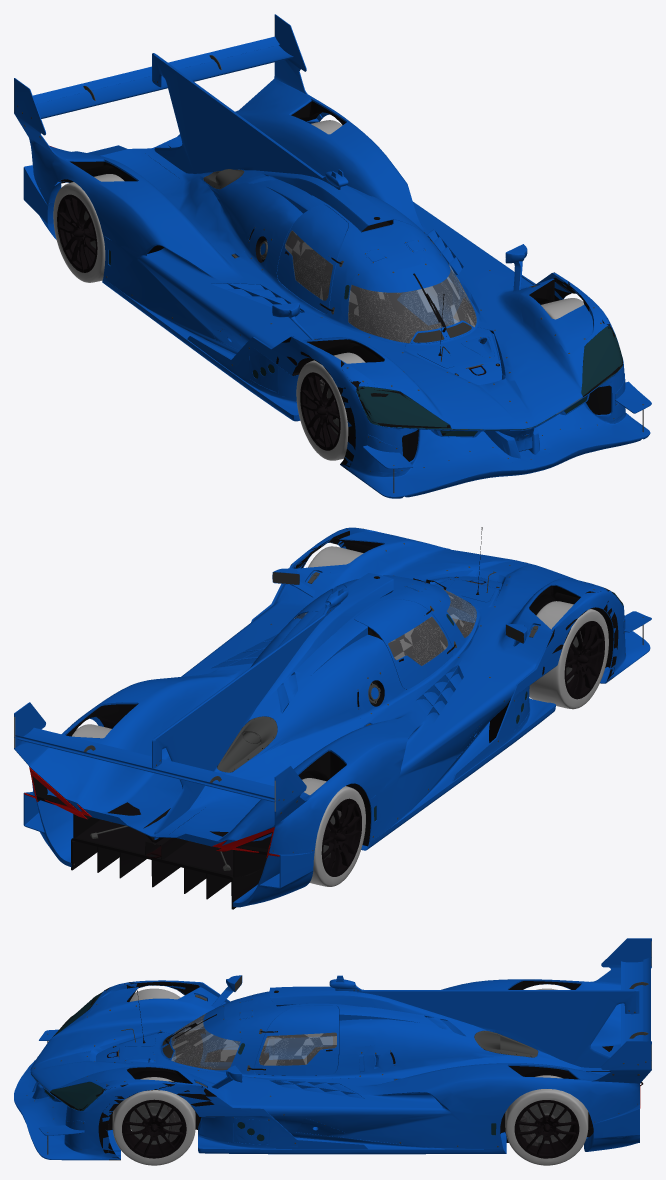
File: alpine-a424.obj
3 renders of one model, top to bottom at view 1: azimuth 30°, elevation 25°; view 2: azimuth 150°, elevation 25°; view 3: azimuth 270°, elevation 25°, orthographic. The views are drawn at different scales.
Visible parts, largest first — view 1: BODY, GLASS, WHEEL_RR, WHEEL_RF; view 2: BODY, WHEEL_RF, WHEEL_RR, GLASS, WHEEL_LF; view 3: BODY, GLASS, WHEEL_LR, WHEEL_LF, WHEEL_RF.
Part boxes in pixels (left/top/right/bottom): BODY: left=14, top=14, right=651, bottom=498; GLASS: left=14, top=18, right=623, bottom=436; WHEEL_RR: left=53, top=174, right=124, bottom=282; WHEEL_RF: left=296, top=352, right=365, bottom=460; BODY: left=14, top=527, right=651, bottom=909; WHEEL_RF: left=529, top=601, right=608, bottom=709; WHEEL_RR: left=302, top=778, right=365, bottom=886; GLASS: left=14, top=588, right=623, bottom=821; WHEEL_LF: left=308, top=546, right=363, bottom=567; BODY: left=14, top=938, right=651, bottom=1160; GLASS: left=31, top=941, right=651, bottom=1141; WHEEL_LR: left=505, top=1075, right=588, bottom=1165; WHEEL_LF: left=112, top=1077, right=195, bottom=1165; WHEEL_RF: left=129, top=988, right=180, bottom=1001.
Bounding box in the file's own units: 1.99 × 1.19 × 5.
